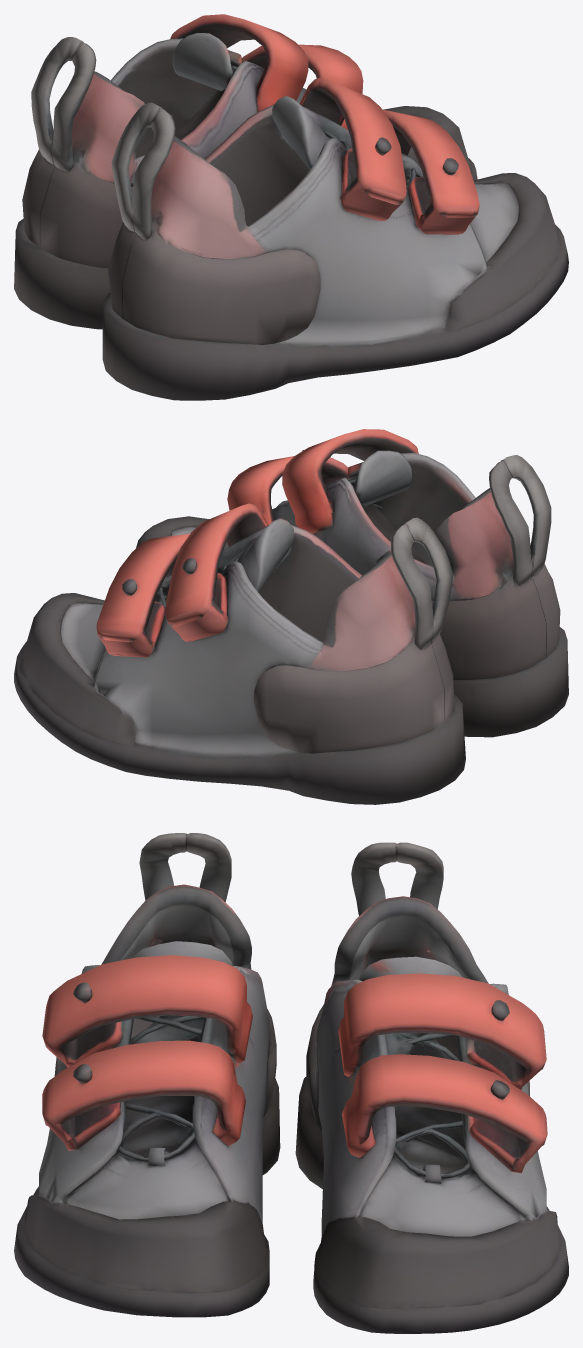
File: shoes_gray_pair.glb
3 views of the same model, one above another, from view 1: azimuth 30°, elevation 25°; view 2: azimuth 150°, elevation 25°; view 3: azimuth 270°, elevation 25° (orthographic). The views are drawn at different scales.
Parts seen in each view (by area): view 1: tripo_node_462f8752-0759-4e9a-a98b-72bd3898866e; view 2: tripo_node_462f8752-0759-4e9a-a98b-72bd3898866e; view 3: tripo_node_462f8752-0759-4e9a-a98b-72bd3898866e.
Boxes of the visible parts, x1,y1,x2,y2 form: tripo_node_462f8752-0759-4e9a-a98b-72bd3898866e: (14,14,568,400); tripo_node_462f8752-0759-4e9a-a98b-72bd3898866e: (14,429,568,804); tripo_node_462f8752-0759-4e9a-a98b-72bd3898866e: (14,833,568,1333).
Size of the model in its own units: 0.998 by 0.5566 by 0.916.
1 material, 1 textured.
